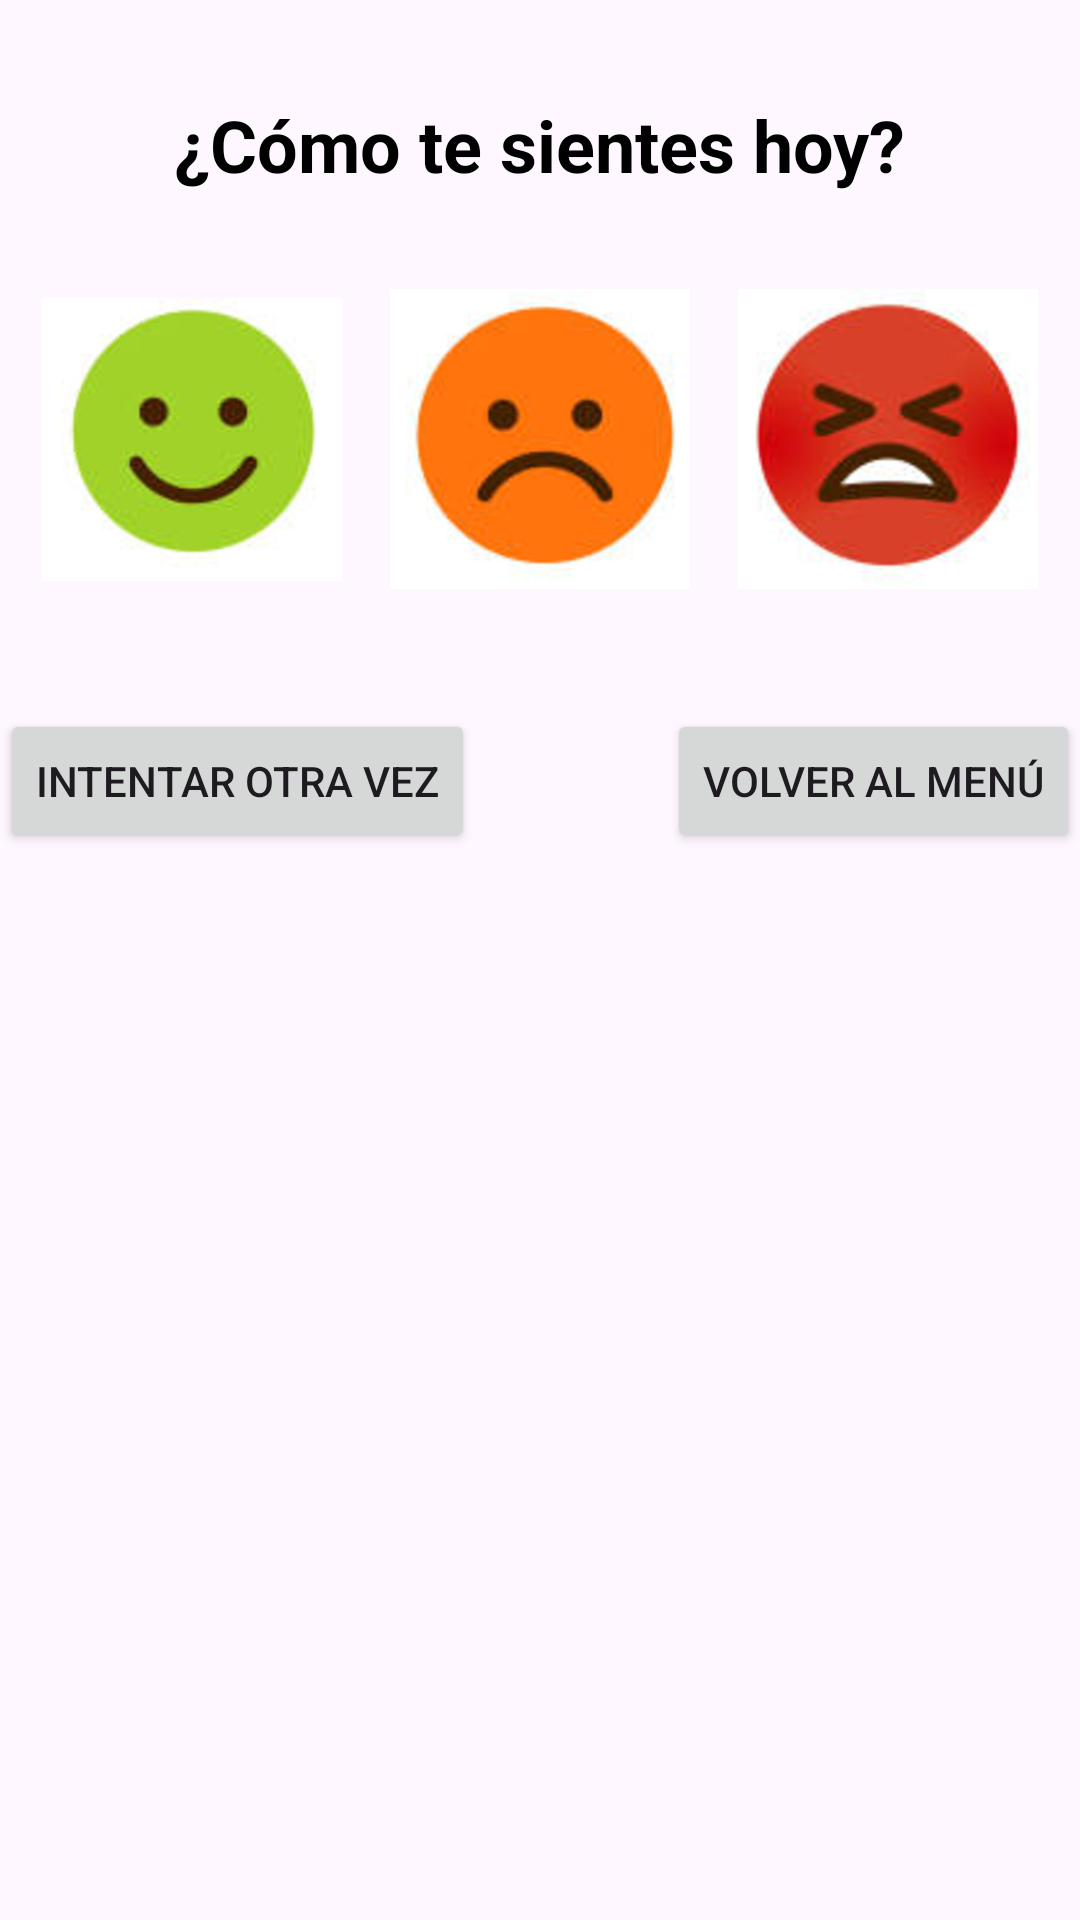

Screen size 1080 x 1920. Icon name, then its center in pixels as (x,y):
Enojado: (888,435)
Feliz: (193,433)
Triste: (545,438)
